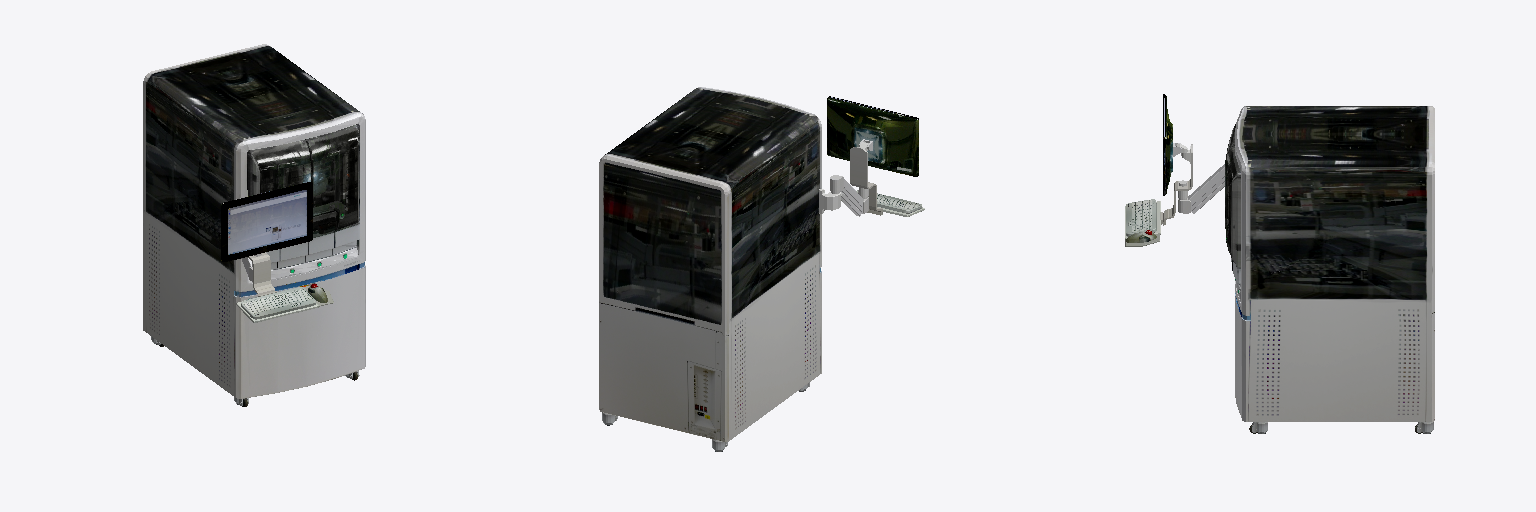
3 views of the same model, side by side, from view 1: azimuth 30°, elevation 25°; view 2: azimuth 150°, elevation 25°; view 3: azimuth 270°, elevation 25° (orthographic).
Parts seen in each view (by area): view 1: object1; view 2: object1; view 3: object1.
Boxes of the visible parts, box(x1,y1,x2,y2) form: object1: box(143, 44, 365, 406); object1: box(599, 87, 924, 451); object1: box(1125, 94, 1434, 433).
Bounding box in the file's own units: 44.04 × 61.53 × 63.89.
Materials: 1 (1 with a texture image).